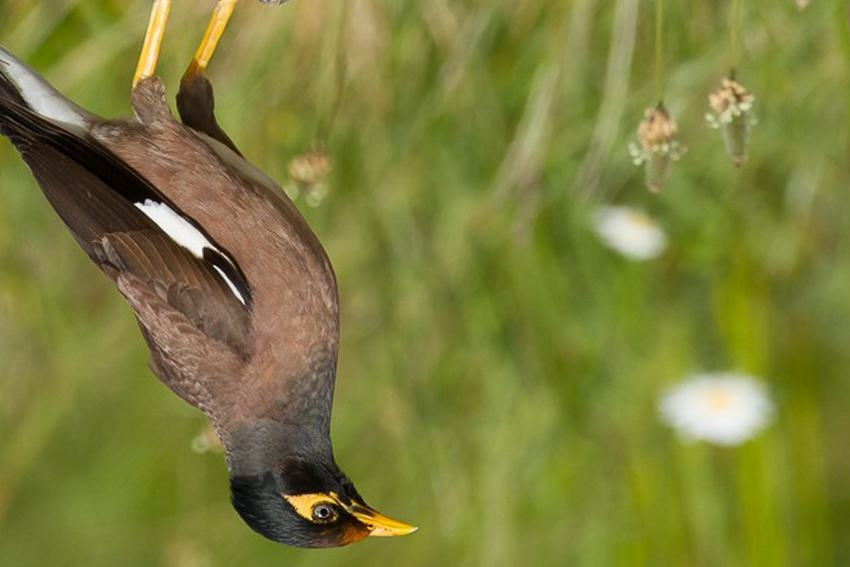myna: (1, 1, 434, 556)
